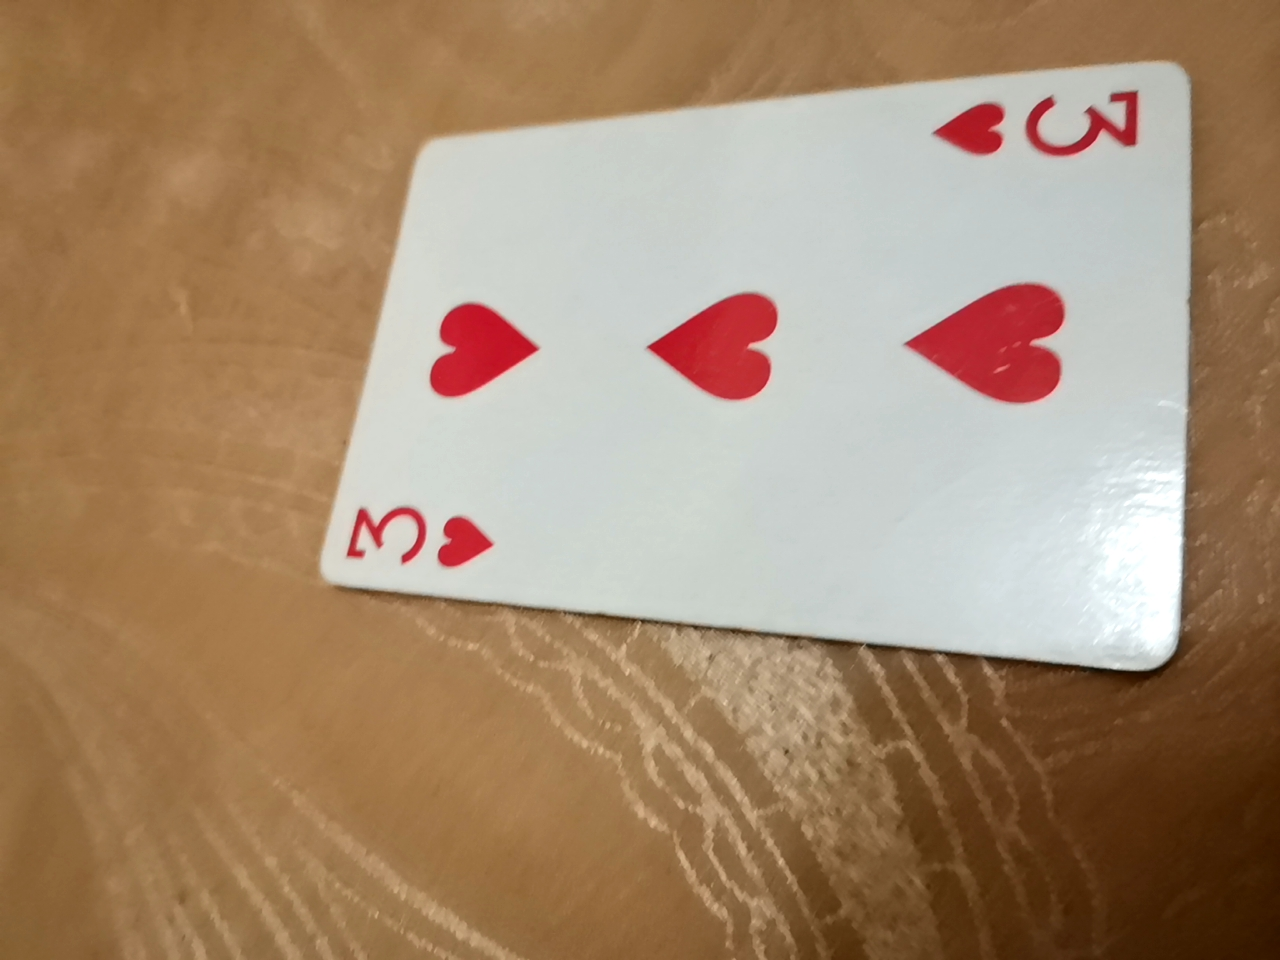hx 3: (314, 36, 1199, 679)
